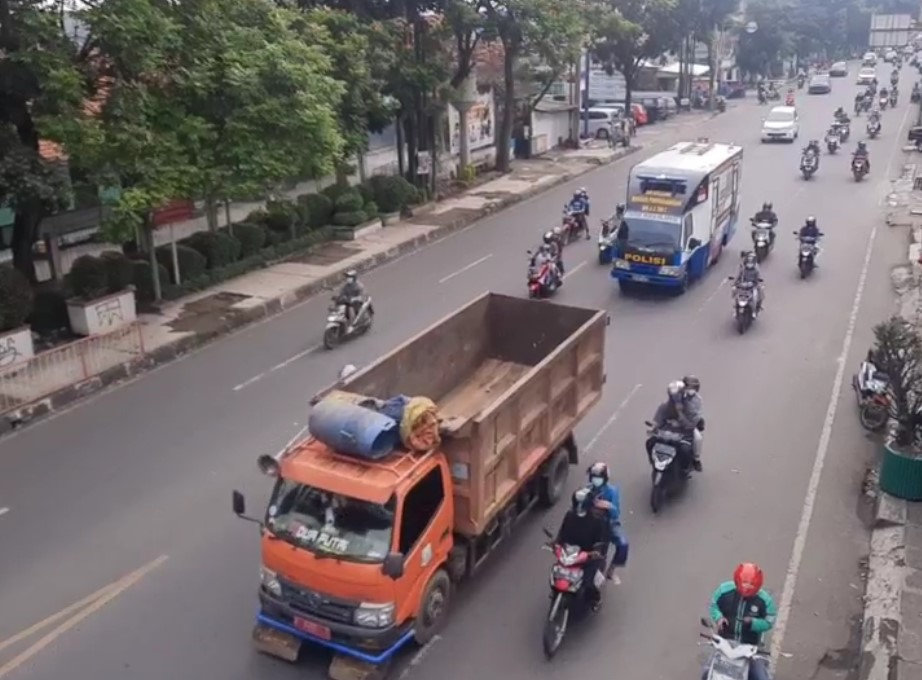motor: (539, 472, 631, 661), (646, 366, 714, 529), (512, 226, 581, 299), (325, 267, 378, 350), (724, 254, 767, 335), (793, 221, 831, 283), (744, 199, 781, 258)
